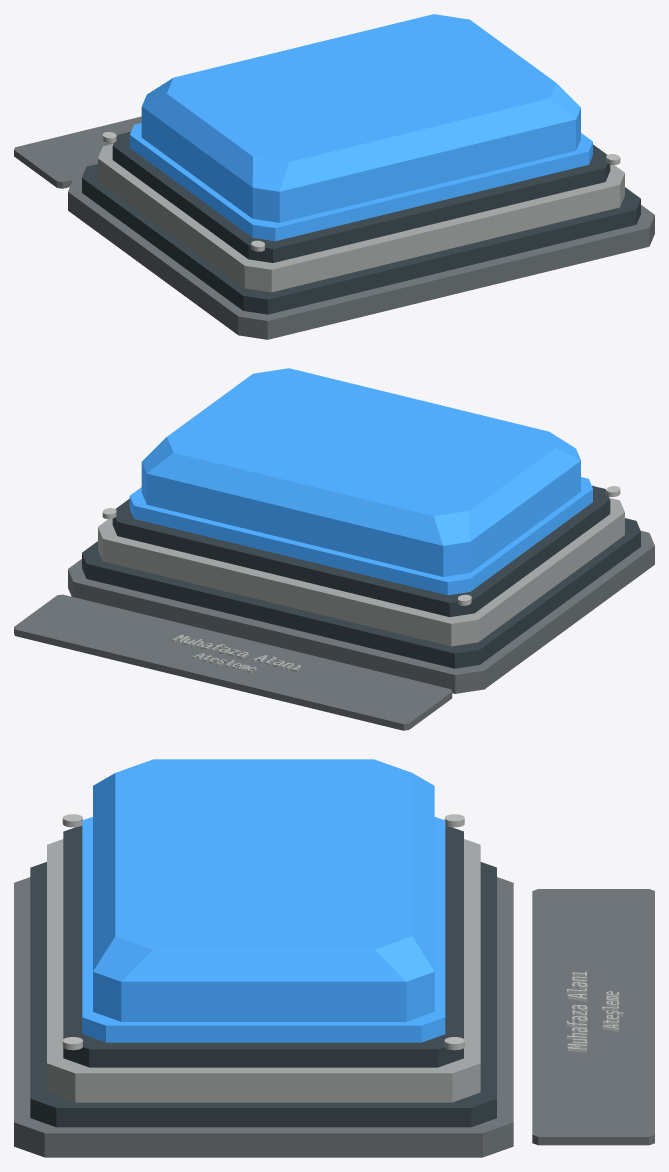
Rendered from MUHAFAZA_ALANI_ATESLEME_08_ADAY.glb.
3 renders of one model, top to bottom at view 1: azimuth 30°, elevation 25°; view 2: azimuth 150°, elevation 25°; view 3: azimuth 270°, elevation 25°, orthographic. The views are drawn at different scales.
Parts seen in each view (by area): view 1: MOVING_CONTAINMENT_BLUE_CAP, Raised_housing_rim, Outer_metal_mount, Lower_black_collared_frame, Inner_black_gasket, Red_button_border, Legend_plate; view 2: MOVING_CONTAINMENT_BLUE_CAP, Legend_plate, Raised_housing_rim, Outer_metal_mount, Lower_black_collared_frame, Inner_black_gasket, Red_button_border, Containment_ignition_legend; view 3: MOVING_CONTAINMENT_BLUE_CAP, Legend_plate, Outer_metal_mount, Raised_housing_rim, Lower_black_collared_frame, Inner_black_gasket, Red_button_border, Containment_ignition_legend.
Part boxes in pixels (x1,y1,x2,y2): MOVING_CONTAINMENT_BLUE_CAP: (141, 14, 580, 222); Raised_housing_rim: (98, 143, 624, 292); Outer_metal_mount: (68, 176, 654, 339); Lower_black_collared_frame: (82, 164, 640, 314); Inner_black_gasket: (112, 131, 610, 262); Red_button_border: (129, 123, 592, 241); Legend_plate: (14, 116, 141, 188); MOVING_CONTAINMENT_BLUE_CAP: (141, 368, 580, 576); Legend_plate: (14, 594, 452, 730); Raised_housing_rim: (98, 498, 624, 646); Outer_metal_mount: (68, 531, 654, 693); Lower_black_collared_frame: (82, 518, 640, 668); Inner_black_gasket: (112, 485, 610, 616); Red_button_border: (129, 477, 592, 595); Containment_ignition_legend: (172, 634, 301, 673); MOVING_CONTAINMENT_BLUE_CAP: (93, 759, 434, 1021); Legend_plate: (532, 889, 654, 1145); Outer_metal_mount: (14, 877, 513, 1157); Raised_housing_rim: (47, 839, 480, 1102); Lower_black_collared_frame: (30, 862, 496, 1127); Inner_black_gasket: (63, 825, 463, 1067); Red_button_border: (82, 817, 445, 1042); Containment_ignition_legend: (567, 971, 623, 1052).
Bounding box in the file's own units: 2.31 × 0.71 × 2.39.
